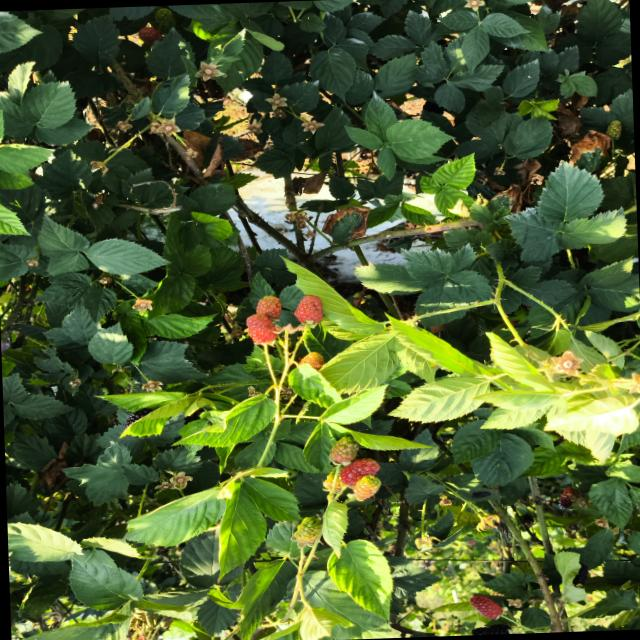naranja: (340, 458, 380, 486), (246, 313, 277, 343), (469, 594, 502, 619), (294, 295, 323, 322), (256, 295, 281, 319)
verde: (291, 516, 321, 548), (329, 435, 359, 464), (353, 475, 381, 500), (322, 469, 347, 493), (299, 352, 324, 369)
